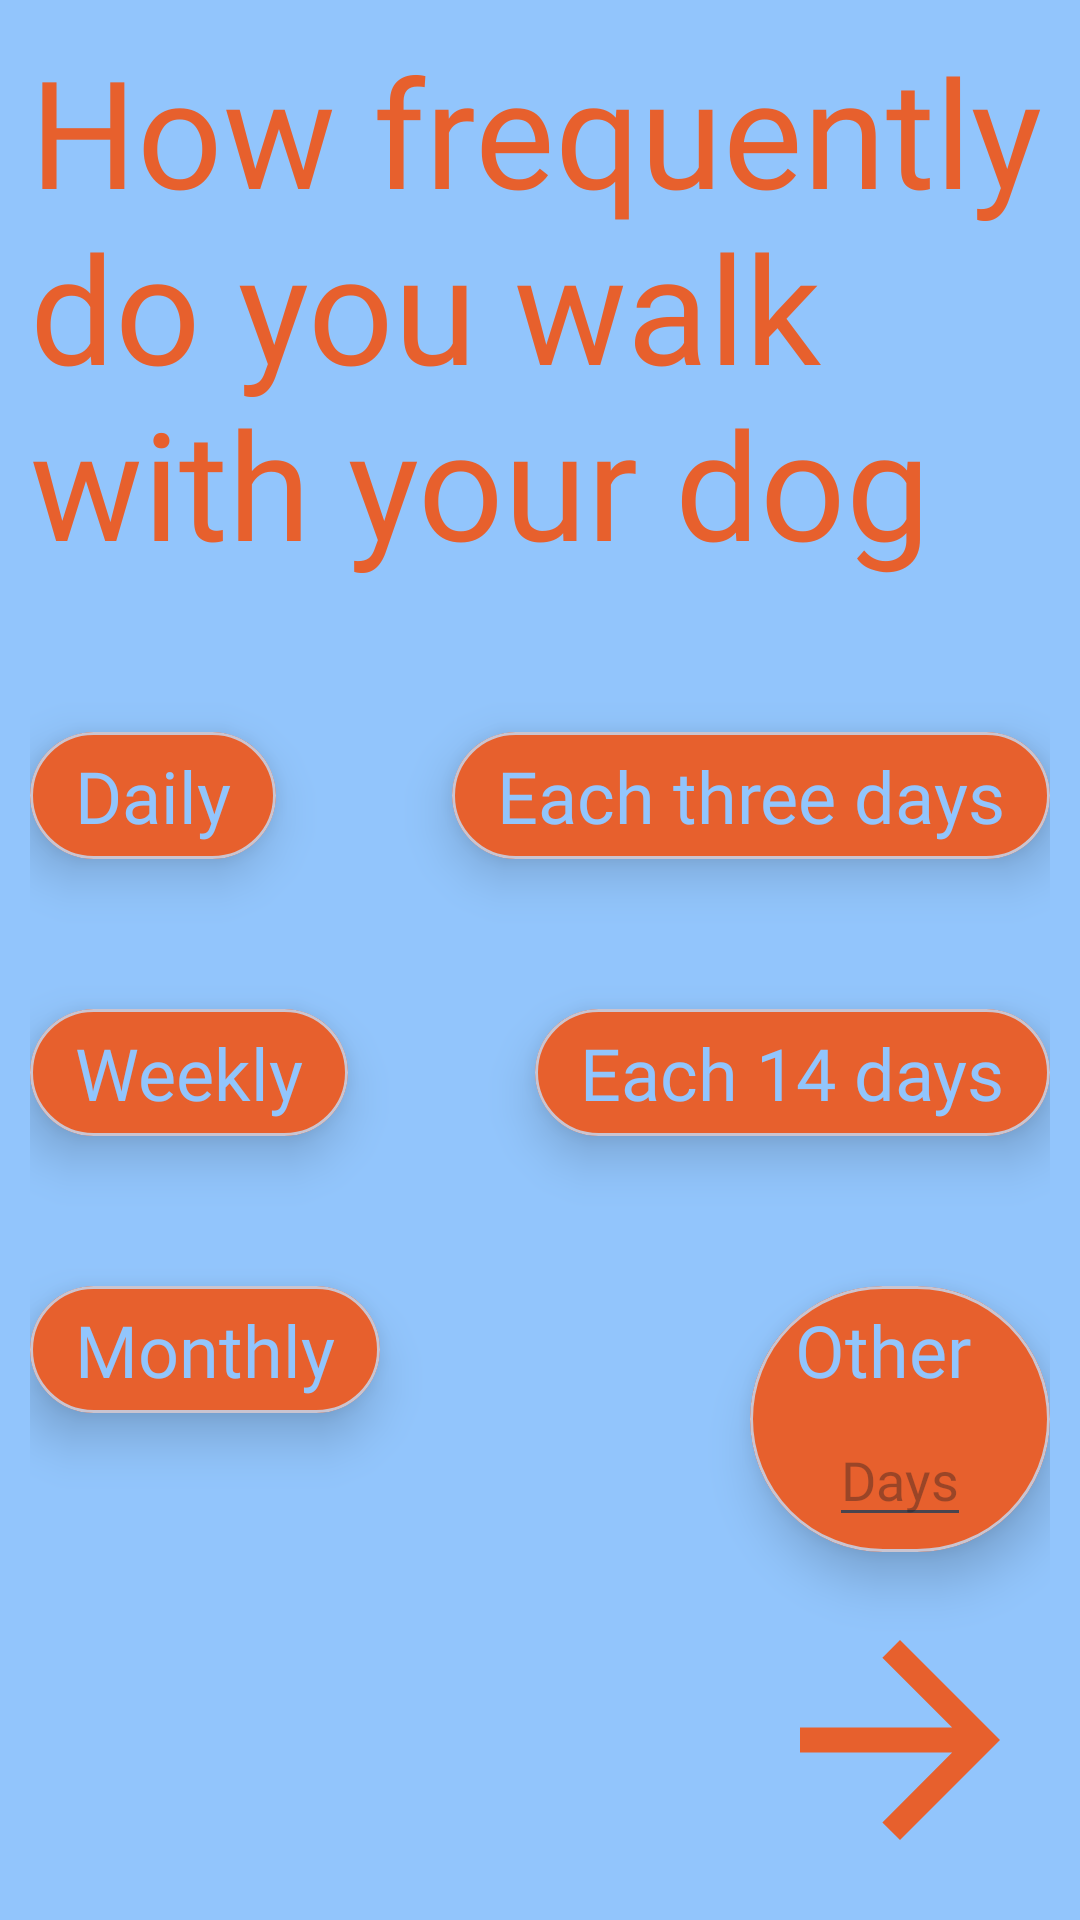

Named icons in this screenshot (1080 × 1920) and their bounding boxes, [x1,y1,x2,y2]:
arrow forward: [800,1640,1000,1840]
